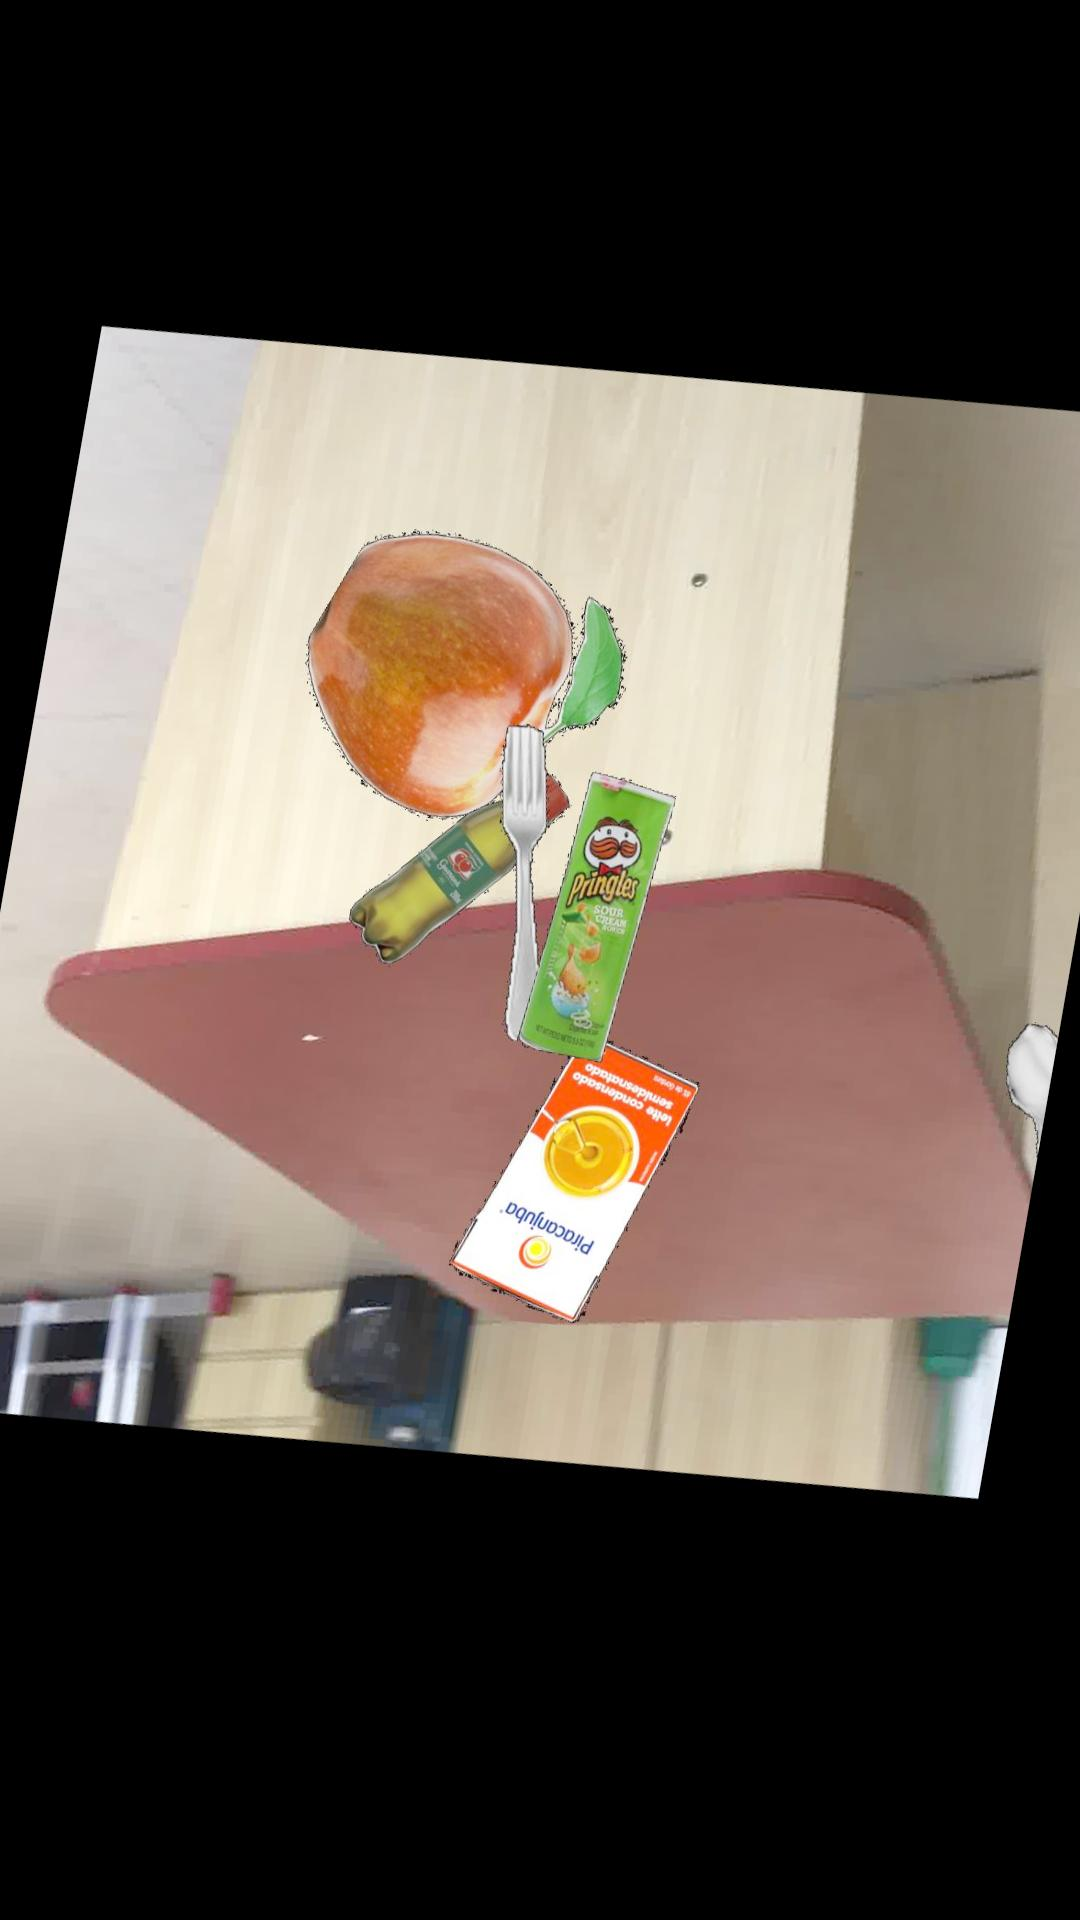apple: (306, 537, 625, 824)
fork: (501, 732, 547, 1048)
guarana: (348, 782, 570, 969)
pringles: (518, 781, 675, 1071)
spoon: (1005, 1040, 1059, 1189)
